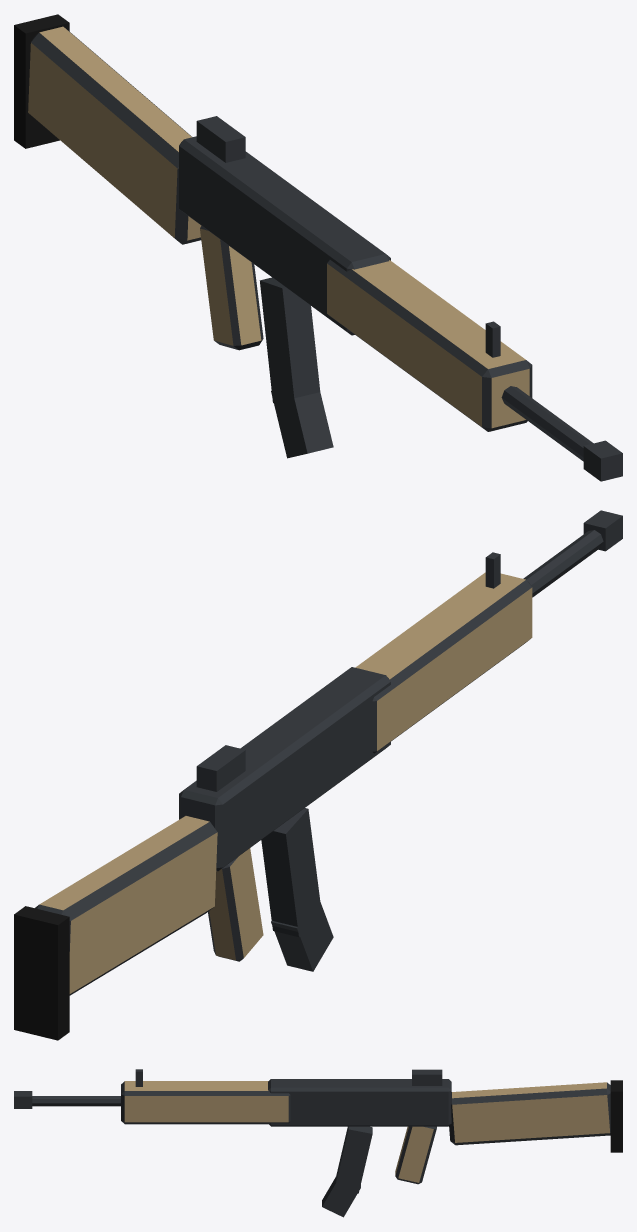
The model's file is WPN_Carbine.fbx.
The picture shows the model from 3 angles, top to bottom: view 1: azimuth 30°, elevation 25°; view 2: azimuth 150°, elevation 25°; view 3: azimuth 270°, elevation 25°; orthographic projection. The views are drawn at different scales.
Parts seen in each view (by area): view 1: WPN_Carbine__BODY; view 2: WPN_Carbine__BODY; view 3: WPN_Carbine__BODY.
Part boxes in pixels (left/top/right/bottom): WPN_Carbine__BODY: left=14, top=14, right=622, bottom=481; WPN_Carbine__BODY: left=14, top=510, right=622, bottom=1040; WPN_Carbine__BODY: left=14, top=1069, right=622, bottom=1217.
Size of the model in its own units: 0.05 by 0.2589 by 0.995.
